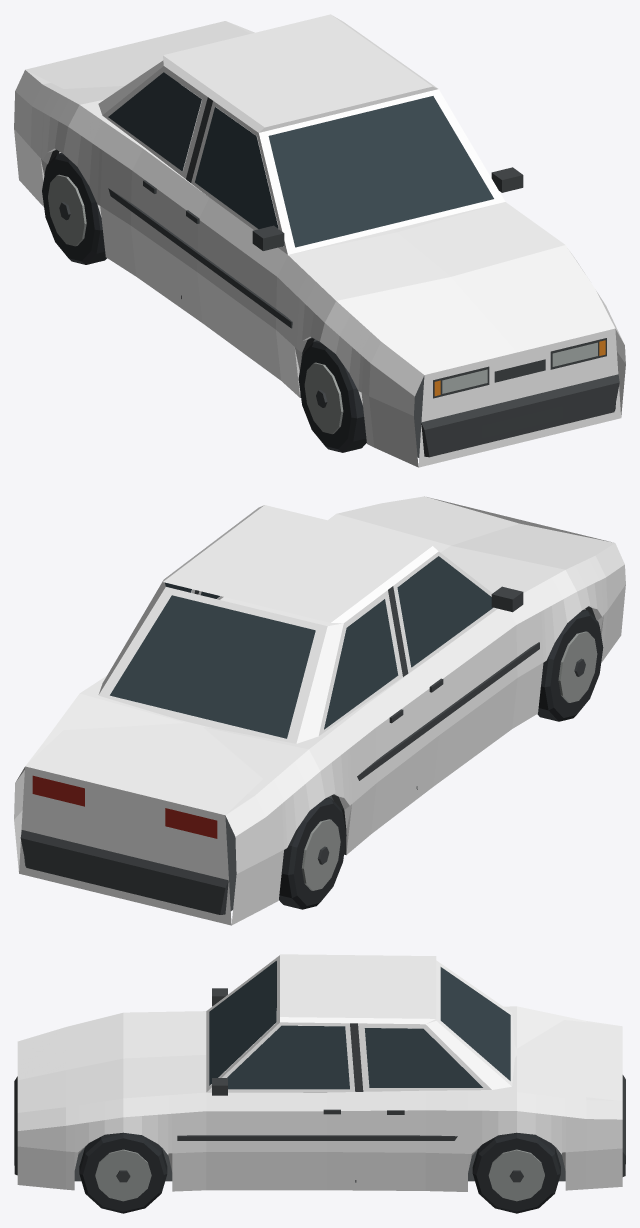
File: tomoe_sora.glb
The picture shows the model from 3 angles, top to bottom: view 1: azimuth 30°, elevation 25°; view 2: azimuth 150°, elevation 25°; view 3: azimuth 270°, elevation 25°; orthographic projection. The views are drawn at different scales.
Visible parts, largest first — view 1: tomoe_sora; view 2: tomoe_sora; view 3: tomoe_sora.
Part boxes in pixels (box(x1,y1,x2,y2)): tomoe_sora: box(14, 14, 625, 467); tomoe_sora: box(14, 496, 625, 925); tomoe_sora: box(14, 954, 625, 1213).
Size of the model in its own units: 1.72 by 1.49 by 4.54.
8 materials, 1 textured.
